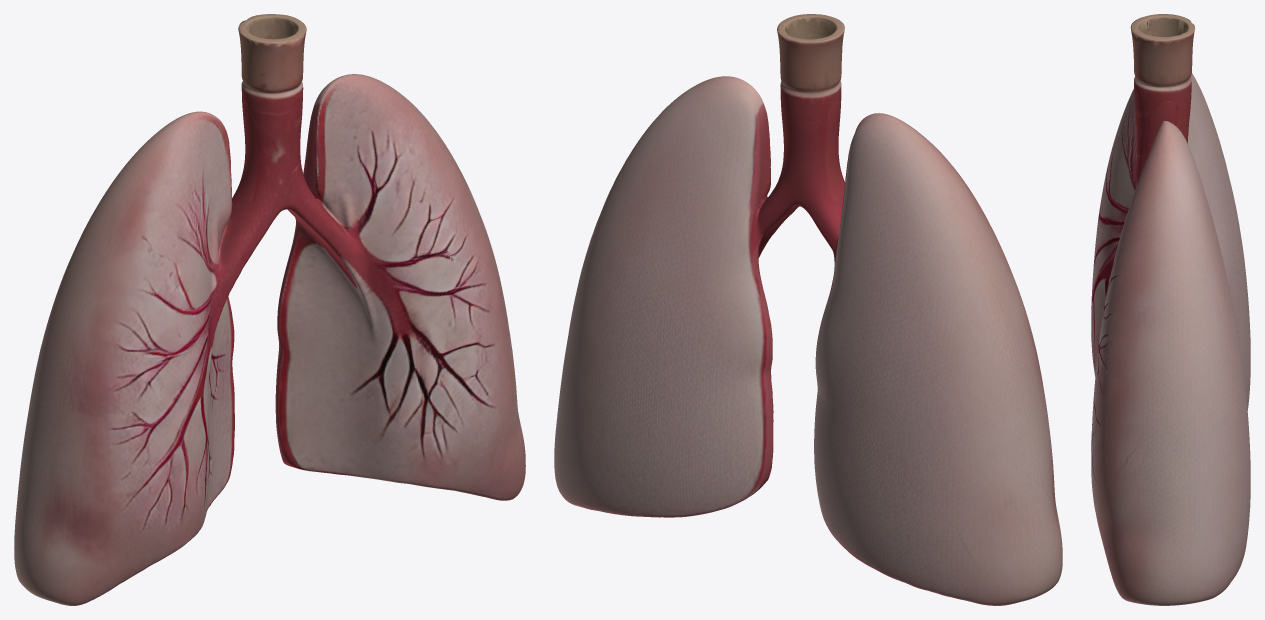
The model's file is vet_v2_organ_cow_lungs.glb.
3 renders of one model, left to right at view 1: azimuth 30°, elevation 25°; view 2: azimuth 150°, elevation 25°; view 3: azimuth 270°, elevation 25°, orthographic. The views are drawn at different scales.
Parts seen in each view (by area): view 1: model; view 2: model; view 3: model.
Part boxes in pixels (x1,y1,x2,y2): model: (14,14,525,605); model: (554,14,1062,605); model: (1091,14,1250,605).
Size of the model in its own units: 1.9 by 1.88 by 0.5723.
1 material, 1 textured.
